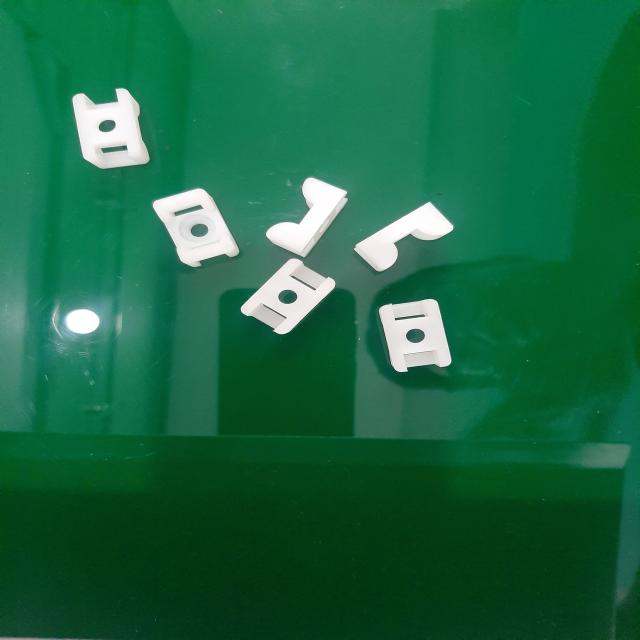mat dung: (153, 189, 238, 268)
mat sai1: (240, 259, 335, 334), (73, 89, 150, 169), (378, 299, 452, 371)
mat sai2: (355, 202, 453, 271), (267, 178, 347, 256)
tam mat dung: (191, 224, 208, 237)
